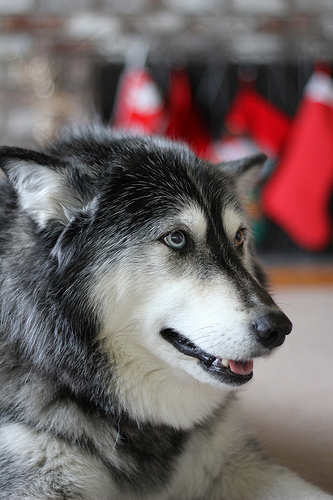dog: (0, 123, 296, 497)
